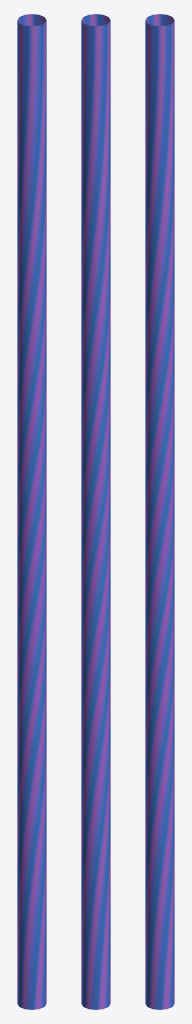
Rendered from corda.obj.
The picture shows the model from 3 angles, left to right: view 1: azimuth 30°, elevation 25°; view 2: azimuth 150°, elevation 25°; view 3: azimuth 330°, elevation 25°; orthographic projection.
Parts seen in each view (by area): view 1: Cylinder; view 2: Cylinder; view 3: Cylinder.
Part boxes in pixels (x1,y1,x2,y2): Cylinder: [17, 14, 46, 1009]; Cylinder: [81, 14, 110, 1009]; Cylinder: [145, 14, 174, 1009].
Size of the model in its own units: 0.0946 by 3.49 by 0.0946.
